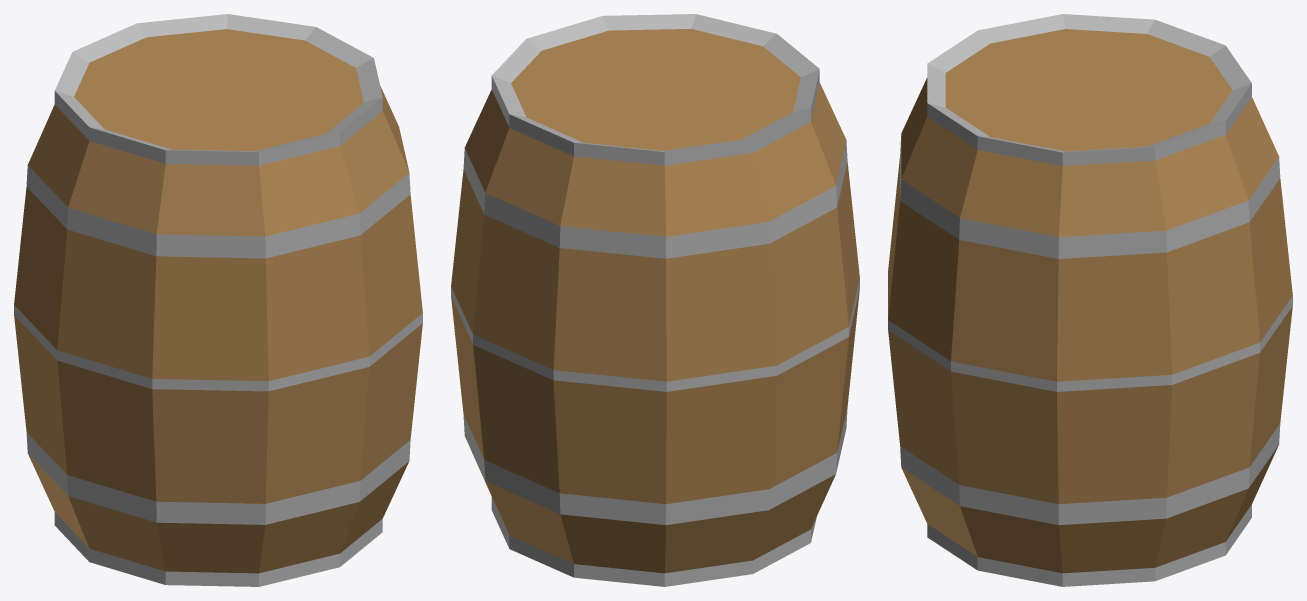
Rendered from Barrel.fbx.
3 renders of one model, left to right at view 1: azimuth 30°, elevation 25°; view 2: azimuth 150°, elevation 25°; view 3: azimuth 270°, elevation 25°, orthographic.
Parts seen in each view (by area): view 1: Cylinder.003; view 2: Cylinder.003; view 3: Cylinder.003.
Part boxes in pixels (x1,y1,x2,y2): Cylinder.003: (14, 14, 422, 586); Cylinder.003: (451, 14, 859, 586); Cylinder.003: (888, 14, 1292, 586).
Size of the model in its own units: 114 by 133 by 113.
